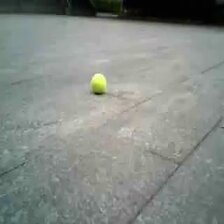tennis: (90, 74, 106, 91)
